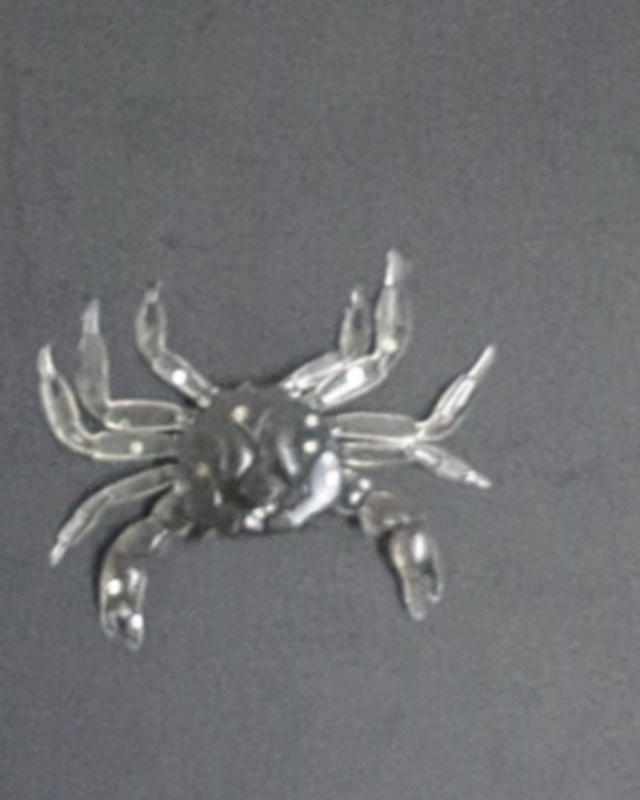crab1: (35, 245, 500, 651)
